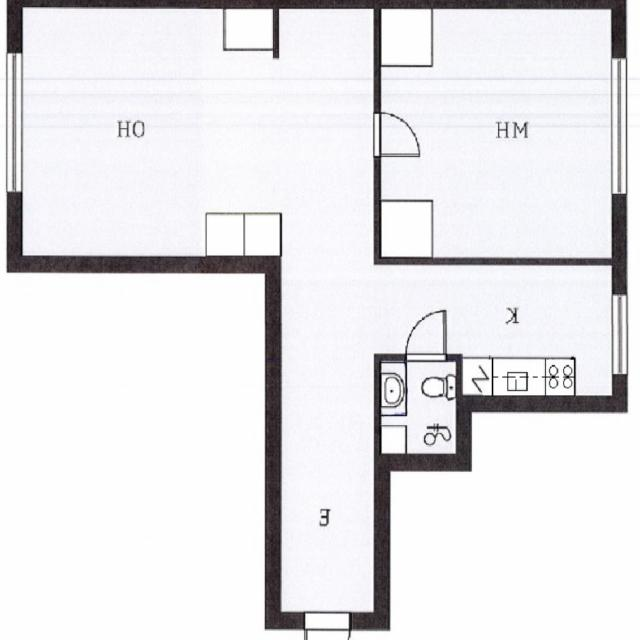door: (374, 113, 420, 155), (407, 312, 446, 361)
